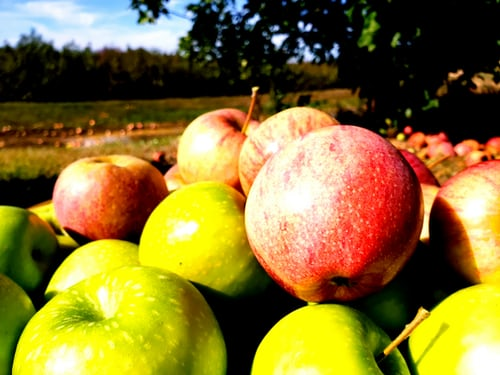apple: (243, 122, 422, 308), (10, 267, 225, 375), (138, 175, 277, 309), (250, 302, 436, 375), (41, 154, 171, 244), (174, 86, 267, 190), (431, 159, 500, 288), (1, 204, 62, 294)
